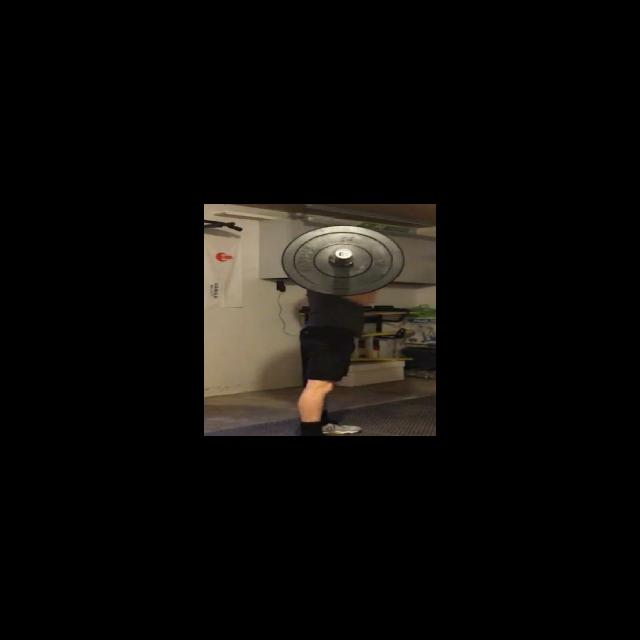barbell: (281, 224, 410, 297)
